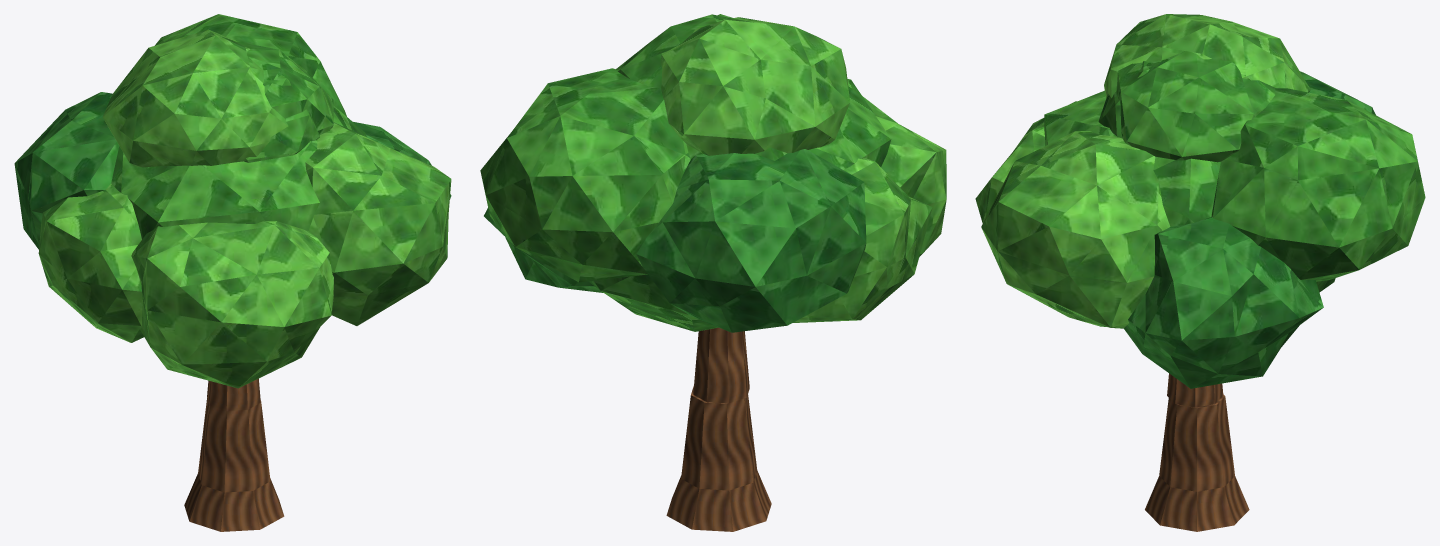
The model's file is tree_round.glb.
3 views of the same model, side by side, from view 1: azimuth 30°, elevation 25°; view 2: azimuth 150°, elevation 25°; view 3: azimuth 270°, elevation 25° (orthographic). The views are drawn at different scales.
Parts seen in each view (by area): view 1: tree_round; view 2: tree_round; view 3: tree_round.
Part boxes in pixels (left/top/right/bottom): tree_round: left=14, top=14, right=451, bottom=531; tree_round: left=480, top=14, right=946, bottom=531; tree_round: left=975, top=14, right=1425, bottom=531.
Size of the model in its own units: 3.41 by 3.95 by 3.36.
Materials: 4 (4 with a texture image).
